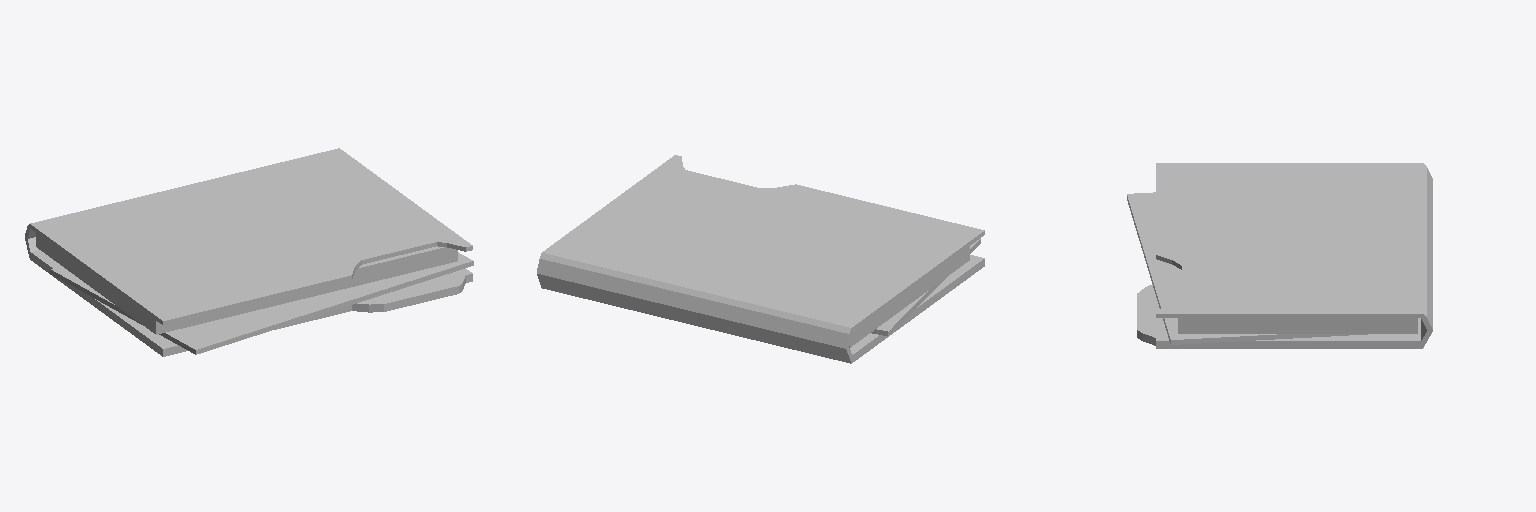
The model's file is DocumentFolder.obj.
3 renders of one model, left to right at view 1: azimuth 30°, elevation 25°; view 2: azimuth 150°, elevation 25°; view 3: azimuth 270°, elevation 25°, orthographic.
Visible parts, largest first — view 1: Folder pCube12, pCube13 Folder, Folder pCube11; view 2: Folder pCube12, Folder pCube11, pCube13 Folder; view 3: Folder pCube12, Folder pCube11, pCube13 Folder.
Part boxes in pixels (left/top/right/bottom): Folder pCube12: left=25, top=148, right=472, bottom=356; pCube13 Folder: left=50, top=252, right=473, bottom=354; Folder pCube11: left=36, top=233, right=457, bottom=334; Folder pCube12: left=537, top=155, right=984, bottom=363; Folder pCube11: left=849, top=246, right=969, bottom=347; pCube13 Folder: left=871, top=238, right=980, bottom=335; Folder pCube12: left=1137, top=163, right=1432, bottom=348; Folder pCube11: left=1178, top=268, right=1417, bottom=333; pCube13 Folder: left=1127, top=192, right=1367, bottom=344.
Size of the model in its own units: 1.08 by 0.1133 by 0.8783.